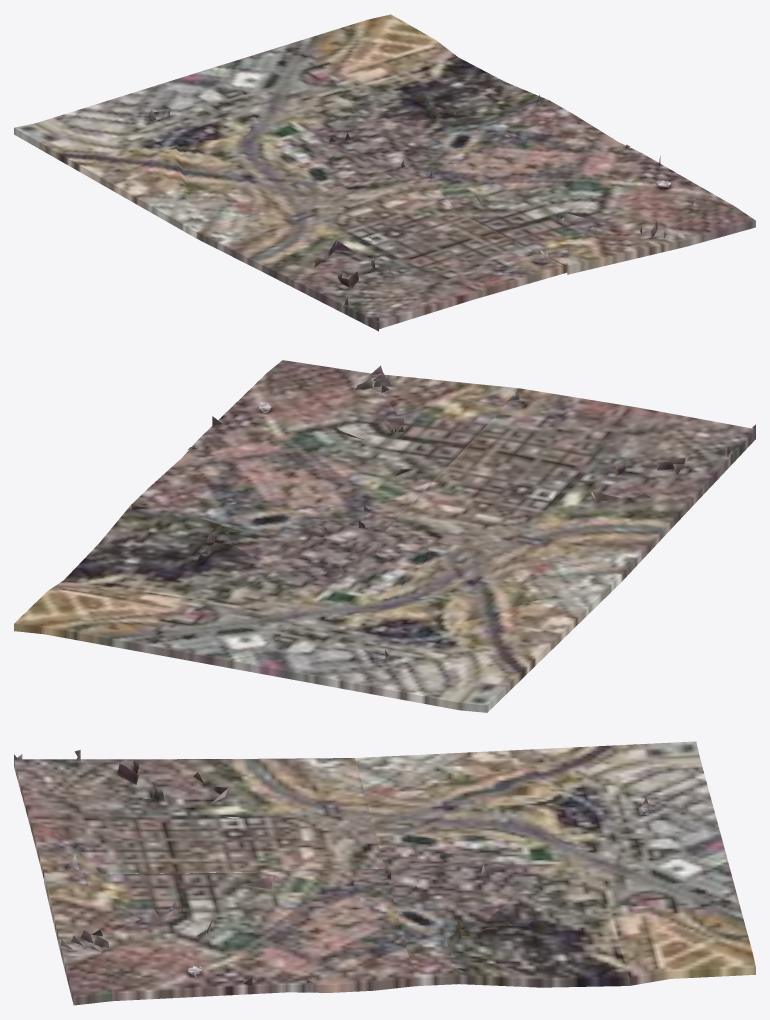
The picture shows the model from 3 angles, top to bottom: view 1: azimuth 30°, elevation 25°; view 2: azimuth 150°, elevation 25°; view 3: azimuth 270°, elevation 25°; orthographic projection. The views are drawn at different scales.
Visible parts, largest first — view 1: Mesh_0; view 2: Mesh_0; view 3: Mesh_0.
Boxes of the visible parts, x1,y1,x2,y2 form: Mesh_0: (14,14,755,331); Mesh_0: (14,360,755,712); Mesh_0: (14,741,755,1005).
Size of the model in its own units: 2132 by 159 by 2637.
Materials: 1 (1 with a texture image).
